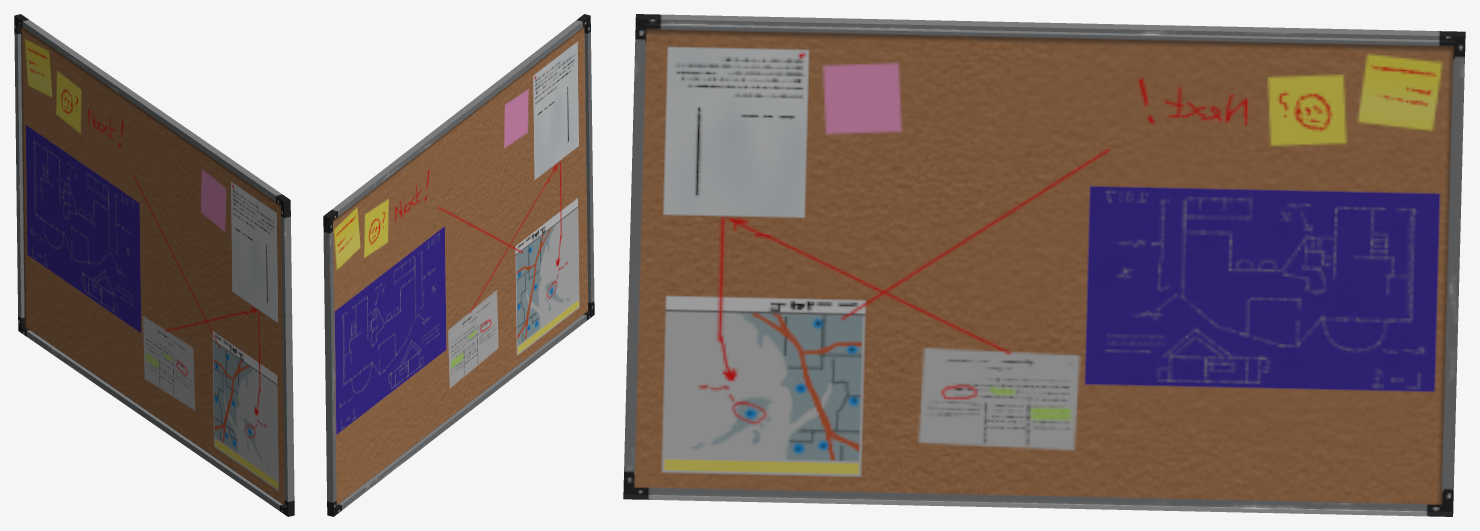
File: Noticeboard.FBX
3 views of the same model, side by side, from view 1: azimuth 30°, elevation 25°; view 2: azimuth 150°, elevation 25°; view 3: azimuth 270°, elevation 25° (orthographic). The views are drawn at different scales.
Parts seen in each view (by area): view 1: Noticeboard; view 2: Noticeboard; view 3: Noticeboard.
Part boxes in pixels (left/top/right/bottom): Noticeboard: left=14, top=14, right=294, bottom=516; Noticeboard: left=323, top=14, right=594, bottom=516; Noticeboard: left=623, top=14, right=1465, bottom=516.
Bounding box in the file's own units: 2.69 × 125 × 192.
